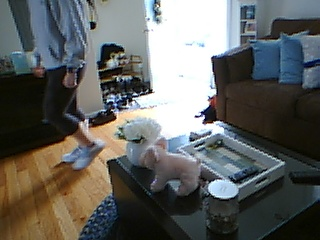piggy: (139, 136, 204, 199)
